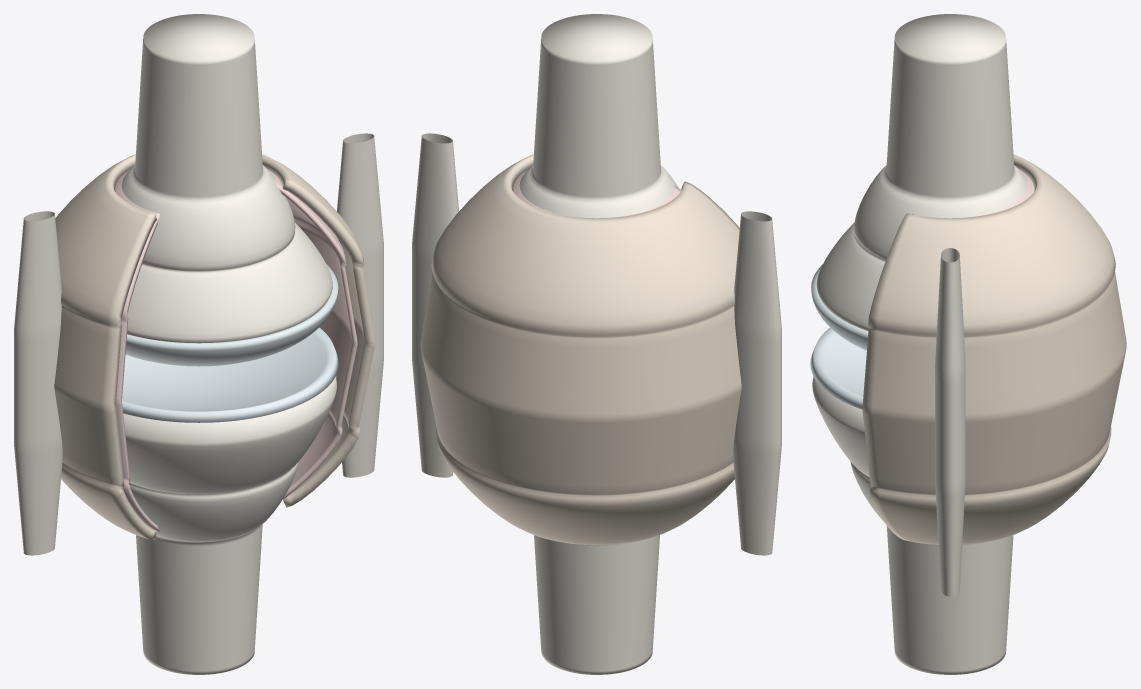
Rendered from synovial.glb.
3 views of the same model, side by side, from view 1: azimuth 30°, elevation 25°; view 2: azimuth 150°, elevation 25°; view 3: azimuth 270°, elevation 25° (orthographic).
Parts seen in each view (by area): view 1: Osso_superior, Osso_inferior, Capsula_fibrosa_em_corte, Ligamento.001, Cartilagem_inferior, Membrana_sinovial_em_corte, Ligamento, Cartilagem_superior; view 2: Capsula_fibrosa_em_corte, Osso_superior, Osso_inferior, Ligamento.001, Ligamento; view 3: Capsula_fibrosa_em_corte, Osso_superior, Osso_inferior, Ligamento, Cartilagem_inferior, Cartilagem_superior.
Part boxes in pixels (<box>): Osso_superior: <box>121,14,332,343</box>; Osso_inferior: <box>123,376,336,674</box>; Capsula_fibrosa_em_corte: <box>54,154,375,539</box>; Ligamento.001: <box>14,211,62,555</box>; Cartilagem_inferior: <box>122,327,338,422</box>; Membrana_sinovial_em_corte: <box>115,169,357,531</box>; Ligamento: <box>337,133,383,477</box>; Cartilagem_superior: <box>125,264,338,366</box>; Capsula_fibrosa_em_corte: <box>420,154,741,545</box>; Osso_superior: <box>519,14,678,218</box>; Osso_inferior: <box>534,535,659,674</box>; Ligamento.001: <box>733,211,781,555</box>; Ligamento: <box>412,133,458,477</box>; Capsula_fibrosa_em_corte: <box>862,154,1126,544</box>; Osso_superior: <box>816,14,1027,330</box>; Osso_inferior: <box>812,376,1013,674</box>; Ligamento: <box>935,248,965,596</box>; Cartilagem_inferior: <box>810,327,866,409</box>; Cartilagem_superior: <box>811,264,868,350</box>.
Bounding box in the file's own units: 0.198 × 0.32 × 0.1476.
